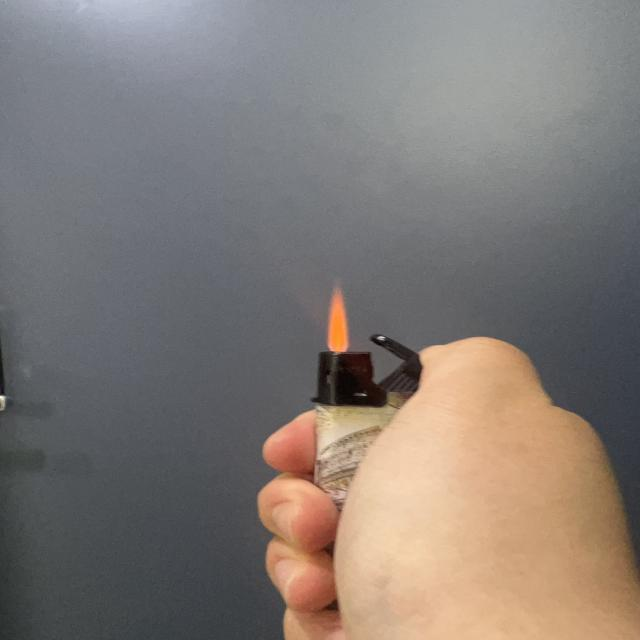fire: (325, 282, 350, 350)
